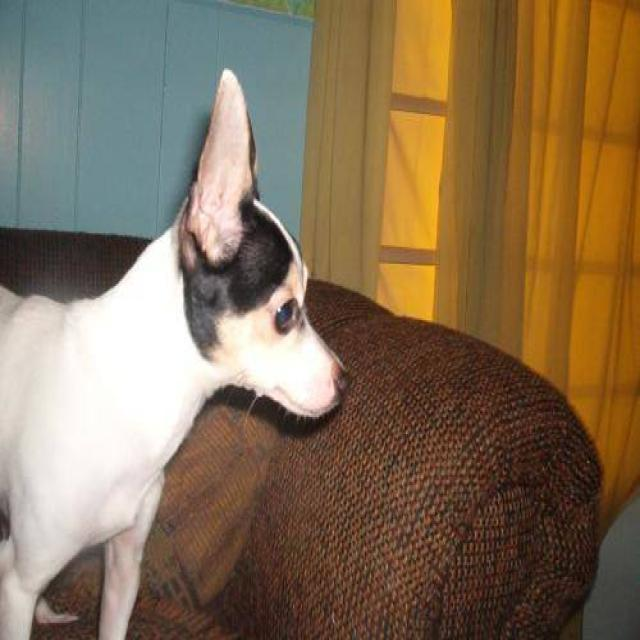dog: (0, 66, 349, 638)
